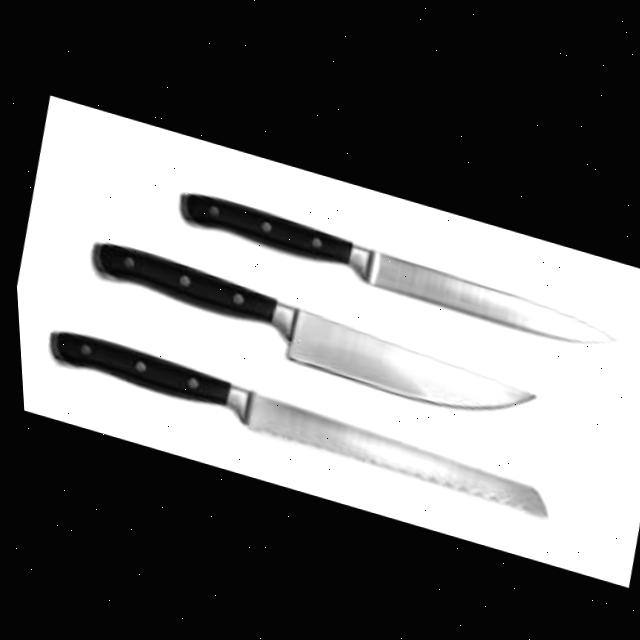Knife: (37, 322, 553, 512), (77, 233, 542, 425), (172, 183, 620, 349)
